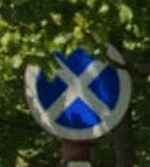oprirea_interzisa: (20, 34, 139, 150)
